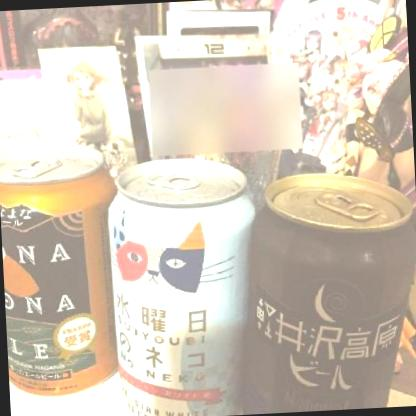alumunium_can: (239, 168, 416, 413), (103, 154, 266, 416), (0, 138, 127, 396)
